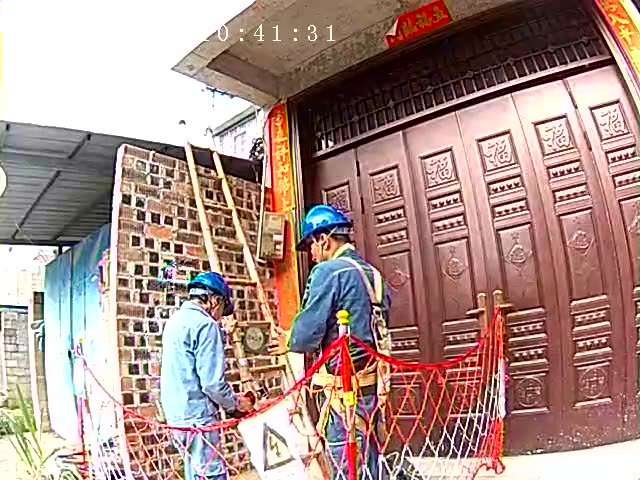downsuit: (314, 372, 381, 476), (170, 428, 230, 480)
glove: (267, 323, 291, 355)
halt: (301, 205, 354, 252), (186, 271, 234, 314)
hand: (235, 394, 254, 414)
inear: (204, 290, 224, 311)
outear: (309, 231, 334, 256)
person: (284, 203, 409, 480), (168, 269, 250, 480)
safebelt: (308, 241, 397, 447)
upsuit: (290, 252, 385, 351), (158, 301, 240, 414)
